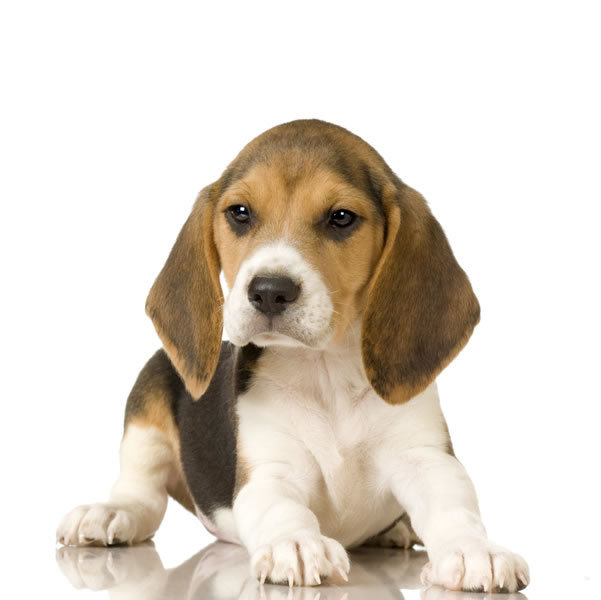dog: (50, 106, 539, 600)
